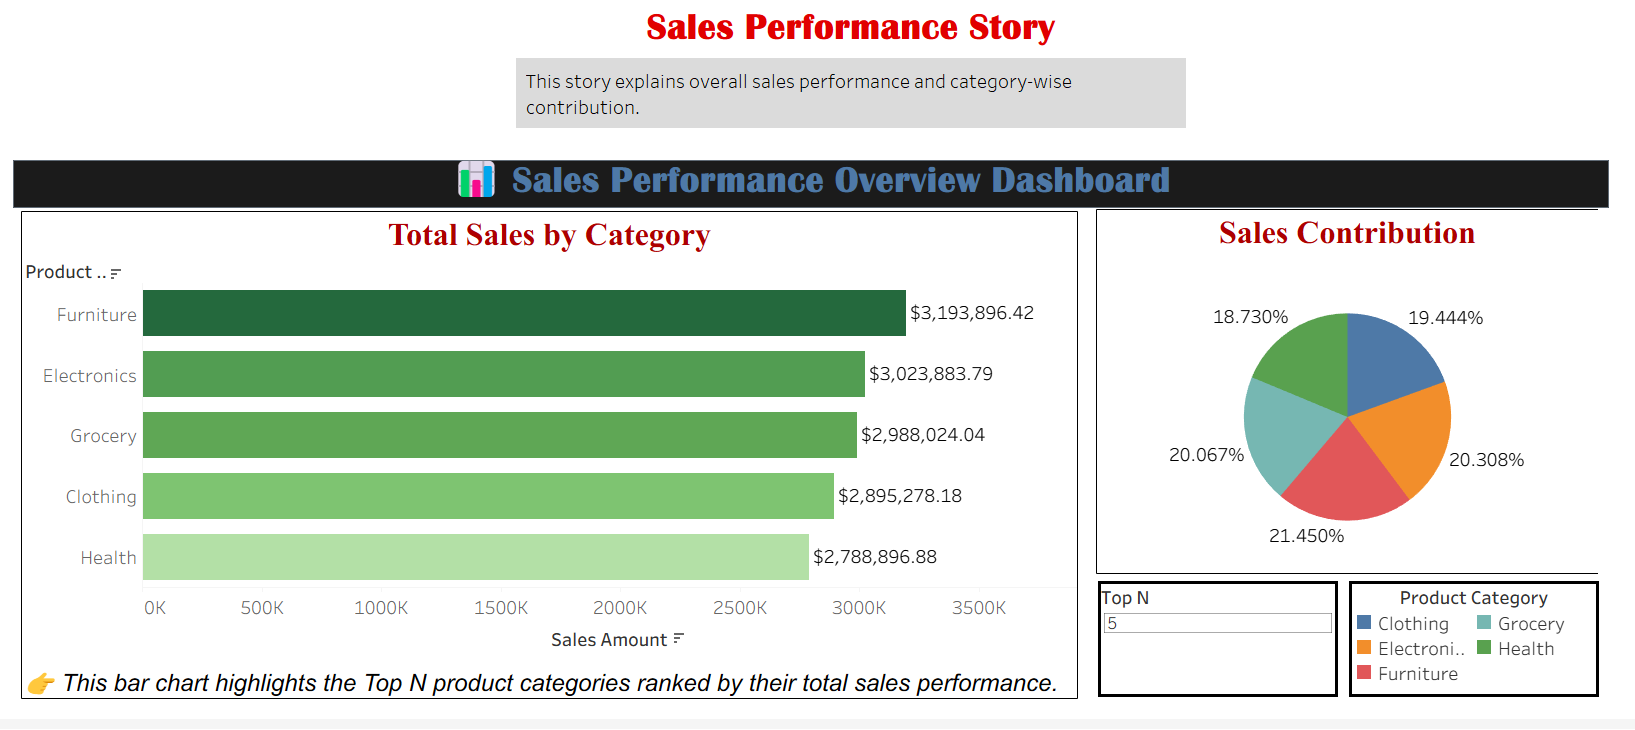

This screenshot's page, from the dashboard's own definition file:
{"tool":"tableau","page":{"name":"Dashboard 1","canvas":[1000,1000],"units":"permille","ordinal":0},"visuals":[{"type":"title","box":[4.9,10.7,990.1,75]},{"type":"worksheet","title":"Sales_Contribution","mark":"Pie","box":[675.7,108.6,310.3,648.8]},{"type":"worksheet","title":"Sales_by_Category","mark":"Automatic","rows":["Product_Category"],"cols":["Sales_Amount"],"box":[12.5,112.6,652.7,866]},{"type":"parameter","param":"[Parameters].[Parameter 3]","box":[677,769.4,148.2,206.4]},{"type":"legend","title":"Sales_Contribution","param":"[federated.1p3hfms09x3x5h1clktr105m0rjh].[none:Product_Category:nk]","box":[832.2,769.4,154.5,206.4]}]}

Visuals, with their boxes on the dashboard's canvas, which has no fixed pixel size, in thousandths of its width and height (x1, y1, x2, y2). These are canvas units, not pixel positions in the 1635x730 screenshot, which may show the page scaled, cropped or inside an application window:
title: 5:11:995:86
"Sales_Contribution" worksheet (Pie marks): 676:109:986:757
"Sales_by_Category" worksheet: 12:113:665:979
parameter: 677:769:825:976
"Sales_Contribution" legend: 832:769:987:976
